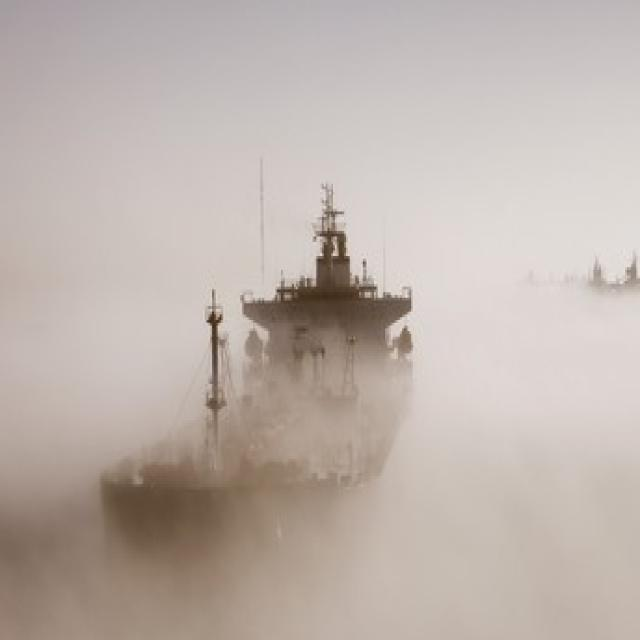cargoship: (100, 174, 420, 600), (515, 228, 640, 317)
